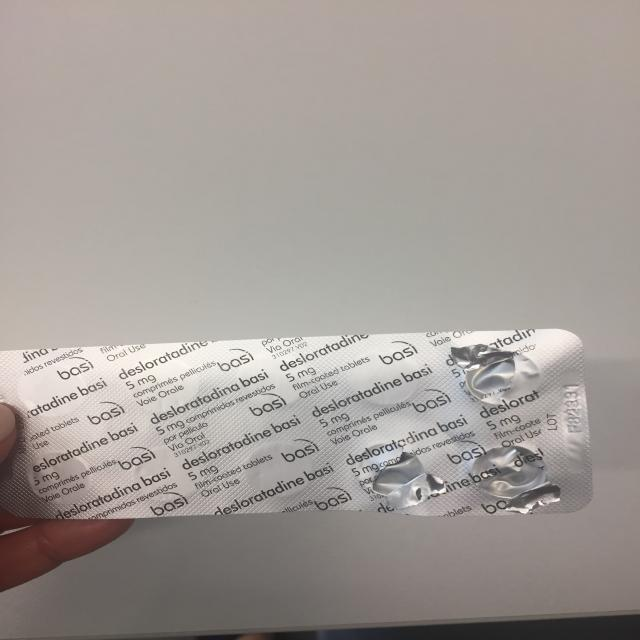Empty: (458, 443, 564, 511), (344, 443, 442, 511), (447, 344, 548, 406)
Pill: (338, 350, 432, 410), (239, 438, 322, 501), (14, 448, 101, 508), (123, 446, 205, 506), (10, 362, 89, 423), (230, 354, 310, 413), (125, 359, 204, 412)
